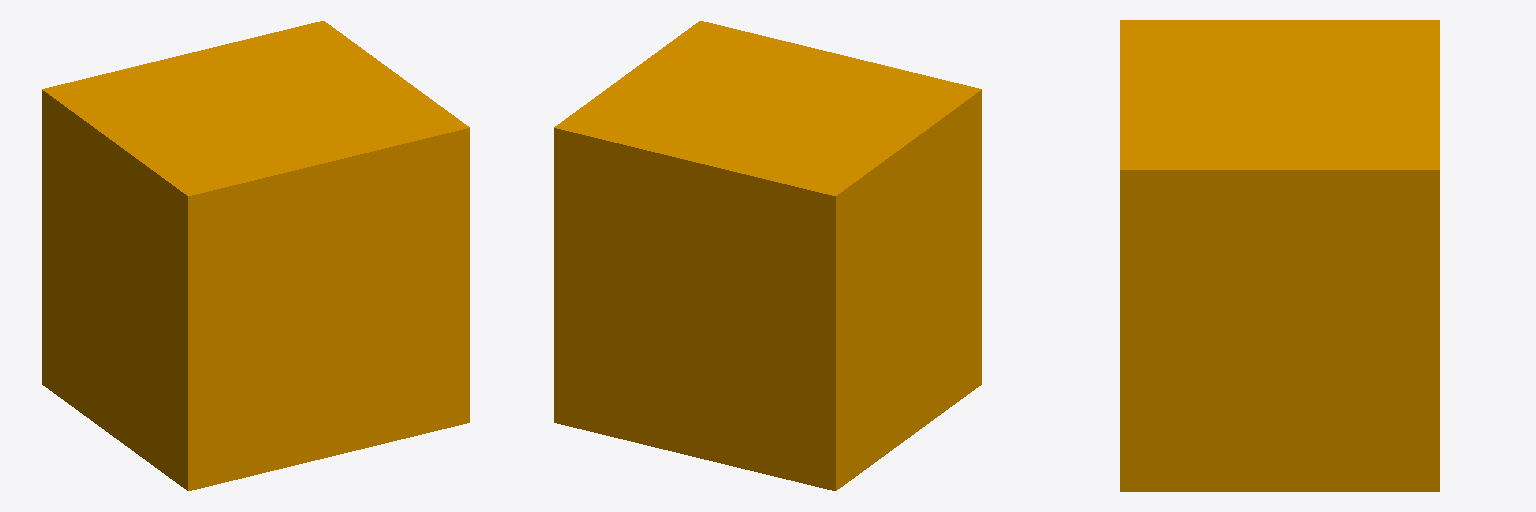
URDF robot description (object):
<robot name="object">
  <link name="object">
    <visual>
      <origin xyz="0 0 0" />
      <geometry>
        <box size="0.08000000000000002 0.07200000000000001 0.08" />
      </geometry>
    </visual>

    <collision>
      <origin xyz="0 0 0" />
      <geometry>
        <box size="0.08000000000000002 0.07200000000000001 0.08" />
      </geometry>
    </collision>

    <inertial>
      <mass value="0.05" />
      <inertia ixx="0.0001" ixy="0.0" ixz="0.0" iyy="0.0001" iyz="0.0" izz="0.0001" />
    </inertial>
  </link>
</robot>

--- What the picture shows (computed from the rendered views, not written in the file) ---
The picture shows the robot from 3 angles, left to right: view 1: azimuth 30°, elevation 25°; view 2: azimuth 150°, elevation 25°; view 3: azimuth 270°, elevation 25°; orthographic projection.
Robot: object — 1 links, 0 joints (none); root link object; default pose: every joint at zero.
Links seen in each view (by area): view 1: object; view 2: object; view 3: object.
Boxes of the visible links, bbox=[...] form: object: bbox=[42, 21, 469, 490]; object: bbox=[554, 21, 981, 490]; object: bbox=[1120, 20, 1439, 491].
Size in the robot's own frame: 0.08 by 0.072 by 0.08 metres.
Geometry: primitives only (box / cylinder / sphere), no mesh files.